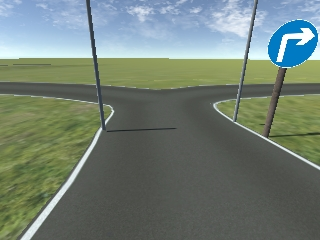right: (266, 19, 318, 67)
